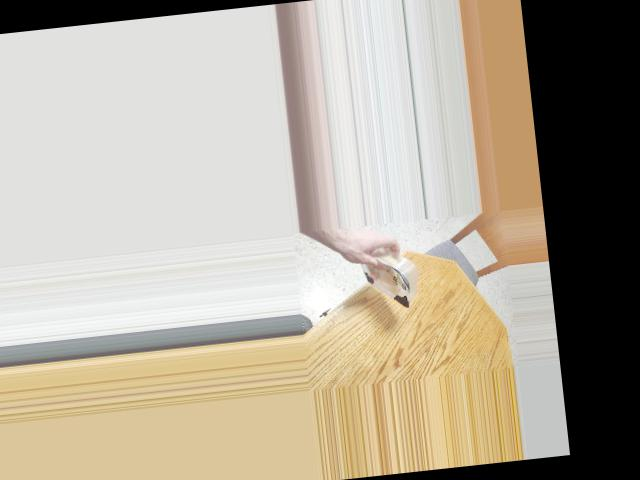cheese: (343, 246, 431, 313)
